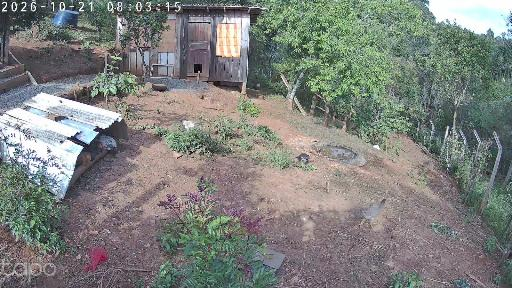frango: (94, 133, 118, 153), (89, 140, 106, 156), (76, 151, 91, 167), (296, 152, 312, 166)
galinha: (359, 199, 386, 230), (181, 118, 200, 133)
pato: (373, 144, 381, 151)
